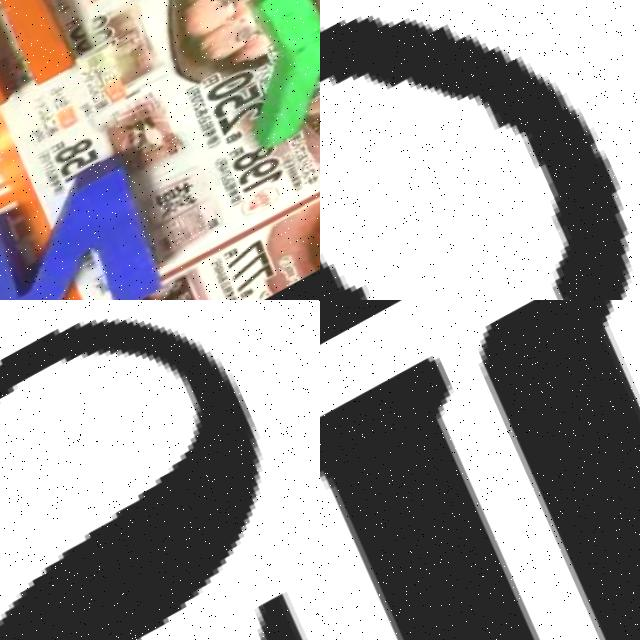N: (320, 300, 640, 640), (0, 153, 193, 300)
O: (320, 21, 637, 300)
S: (0, 300, 320, 640)
W: (0, 0, 94, 168)
Y: (202, 0, 320, 157)
